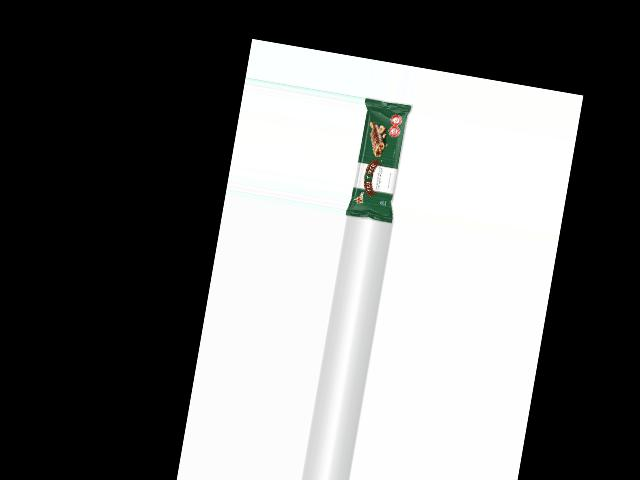chocolate: (345, 97, 414, 225)
